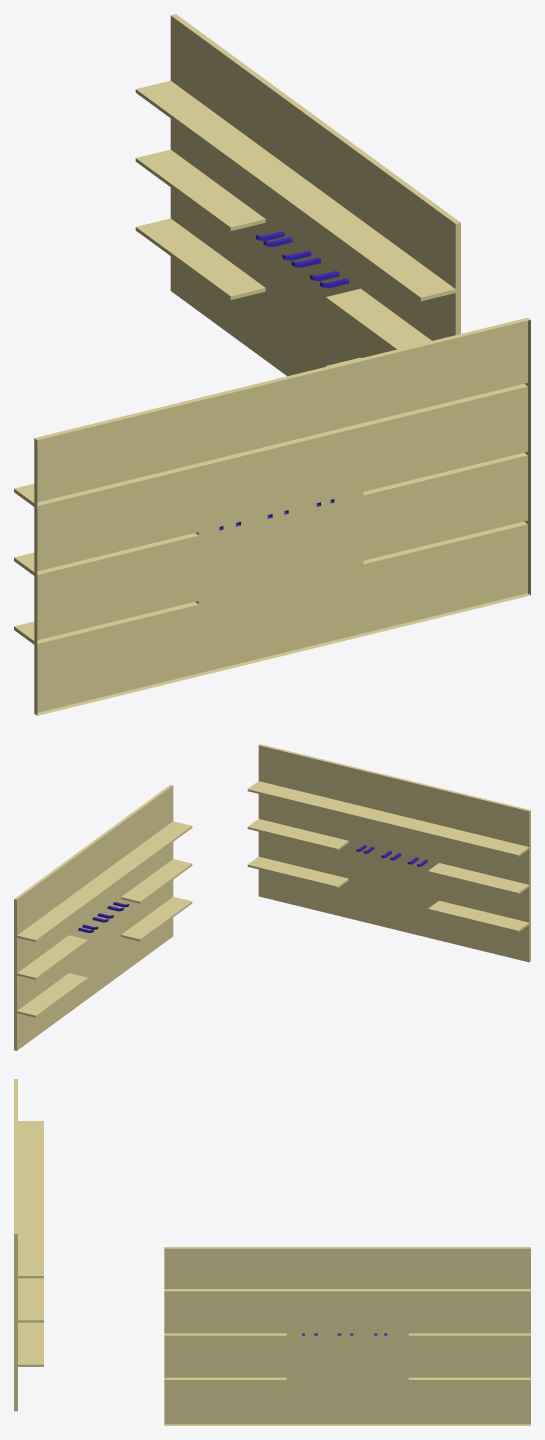
The model's file is MP_Shelves.fbx.
3 renders of one model, top to bottom at view 1: azimuth 30°, elevation 25°; view 2: azimuth 150°, elevation 25°; view 3: azimuth 270°, elevation 25°, orthographic. The views are drawn at different scales.
Parts seen in each view (by area): view 1: Shelves; view 2: Shelves; view 3: Shelves.
Part boxes in pixels (<box>): Shelves: <box>14,14,530,715</box>; Shelves: <box>14,744,530,1050</box>; Shelves: <box>14,1079,530,1425</box>.
Size of the model in its own units: 1346 by 655 by 1733.
